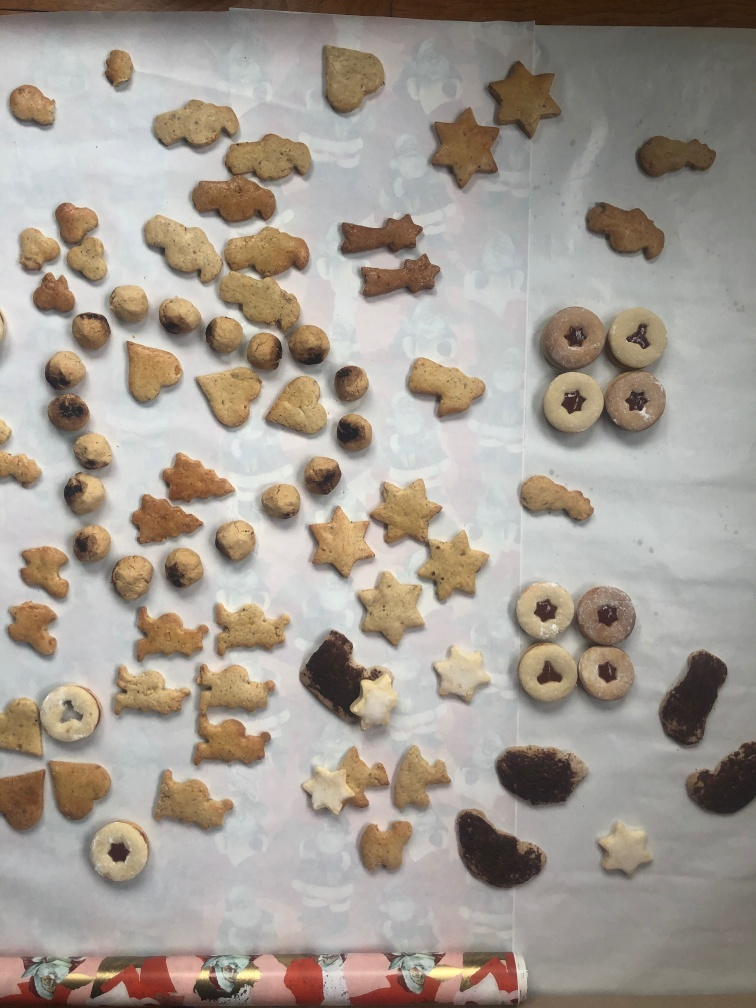angel: (405, 350, 483, 433)
christmas shortbread with jam: (83, 820, 153, 890), (605, 368, 672, 438), (508, 578, 577, 644), (539, 303, 605, 371), (41, 678, 104, 748), (514, 643, 582, 707), (576, 580, 642, 643), (577, 644, 641, 708), (538, 372, 603, 435), (608, 307, 671, 371)
christmas tree: (157, 448, 236, 509), (128, 490, 204, 551)
flake: (67, 231, 119, 285), (27, 268, 81, 319), (13, 224, 63, 278), (53, 196, 98, 245)
heart: (319, 39, 385, 120), (194, 357, 263, 434), (119, 336, 186, 412), (262, 372, 328, 444), (46, 757, 113, 822), (2, 766, 53, 835), (5, 694, 45, 772), (154, 293, 202, 345), (41, 351, 91, 400), (57, 470, 107, 518), (327, 360, 378, 407), (333, 405, 377, 459), (297, 450, 346, 498), (109, 554, 159, 601), (255, 479, 303, 527), (212, 514, 253, 570), (65, 305, 109, 357), (108, 278, 149, 333), (161, 543, 208, 590), (288, 322, 334, 370), (204, 309, 247, 359), (43, 389, 97, 424), (69, 432, 114, 472), (244, 327, 285, 368), (66, 518, 82, 598)
lamb: (391, 743, 451, 817), (3, 596, 65, 664), (332, 740, 389, 811), (13, 540, 76, 604), (354, 817, 419, 879)
santa claus: (150, 765, 238, 840), (141, 211, 225, 289), (581, 195, 672, 266), (186, 706, 271, 779), (222, 129, 323, 188), (148, 94, 242, 157), (126, 599, 211, 666), (218, 267, 308, 329), (208, 596, 292, 660), (188, 173, 282, 228), (221, 227, 310, 285), (190, 660, 280, 717), (109, 662, 191, 724)
shooting star: (335, 206, 425, 268), (354, 255, 444, 307)
snowman: (514, 471, 598, 530), (632, 134, 722, 180)
star: (486, 57, 565, 143), (425, 104, 495, 196), (418, 528, 489, 607), (358, 569, 427, 650), (370, 477, 447, 543), (308, 505, 376, 579), (431, 641, 497, 708), (594, 815, 653, 889), (346, 673, 409, 735), (297, 761, 357, 819)
weird #1: (453, 805, 553, 893), (656, 650, 725, 760), (493, 739, 592, 812), (298, 627, 359, 728), (686, 741, 756, 819)
